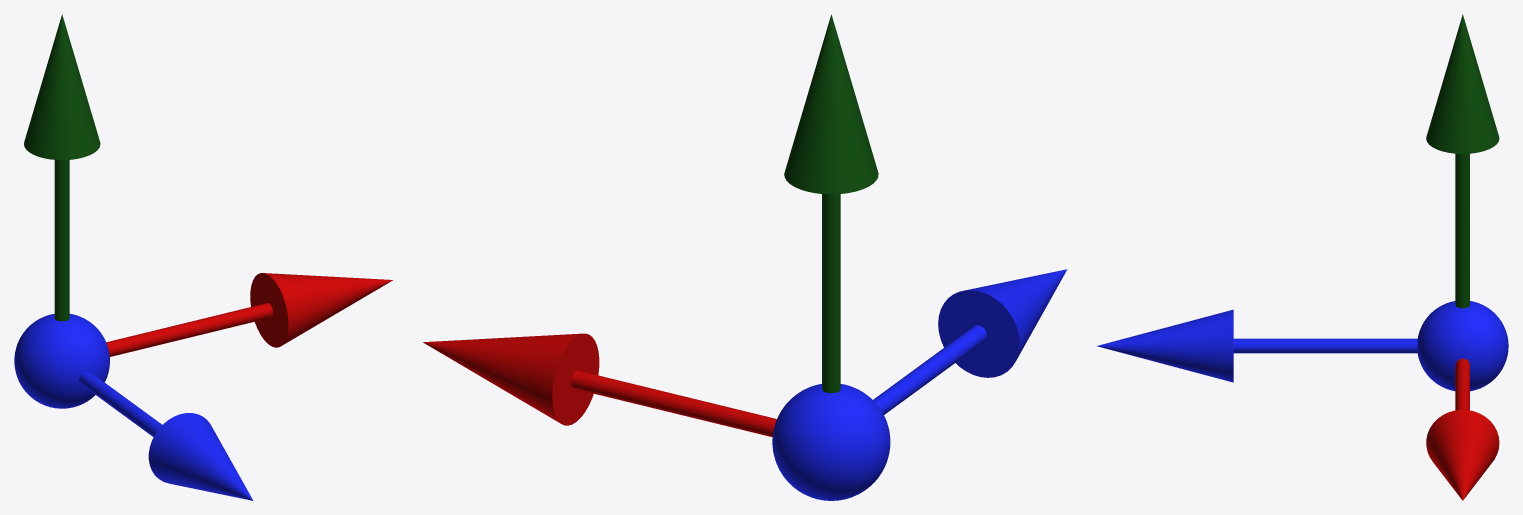
File: End_point.obj
The picture shows the model from 3 angles, left to right: view 1: azimuth 30°, elevation 25°; view 2: azimuth 150°, elevation 25°; view 3: azimuth 270°, elevation 25°; orthographic projection. The views are drawn at different scales.
Visible parts, largest first — view 1: Solid1:1, Solid1, Solid1:2, Solid1:3; view 2: Solid1:1, Solid1, Solid1:3, Solid1:2; view 3: Solid1:2, Solid1:1, Solid1:3, Solid1.
Part boxes in pixels (x1,y1,x2,y2): Solid1:1: (24, 14, 100, 321); Solid1: (106, 273, 392, 356); Solid1:2: (79, 371, 253, 500); Solid1:3: (14, 314, 109, 408); Solid1:1: (784, 14, 878, 393); Solid1: (423, 333, 776, 437); Solid1:3: (772, 384, 890, 500); Solid1:2: (873, 269, 1067, 414); Solid1:2: (1097, 309, 1417, 382); Solid1:1: (1426, 14, 1499, 308); Solid1:3: (1417, 301, 1508, 391); Solid1: (1426, 358, 1499, 500).
Size of the model in its own units: 0.225 by 0.225 by 0.225.
